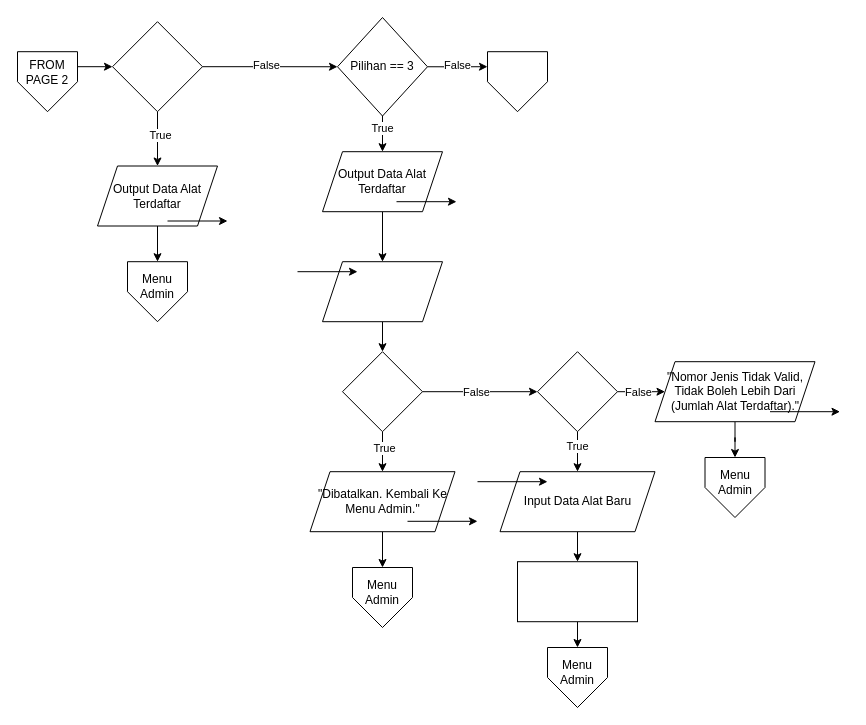
The diagram is 866 pixels wide and 725 high, and some of its shapes have lost their labels. Each missing label, with the centre of its shape:
"Batal?" goes at [382,391].
"Input Nomor Alat / Batal" goes at [382,291].
"Input Valid?" goes at [577,391].
"Mengubah data alat" goes at [577,591].
"Pilihan == 2" goes at [157,66].
"TO PAGE 4" goes at [517,81].
